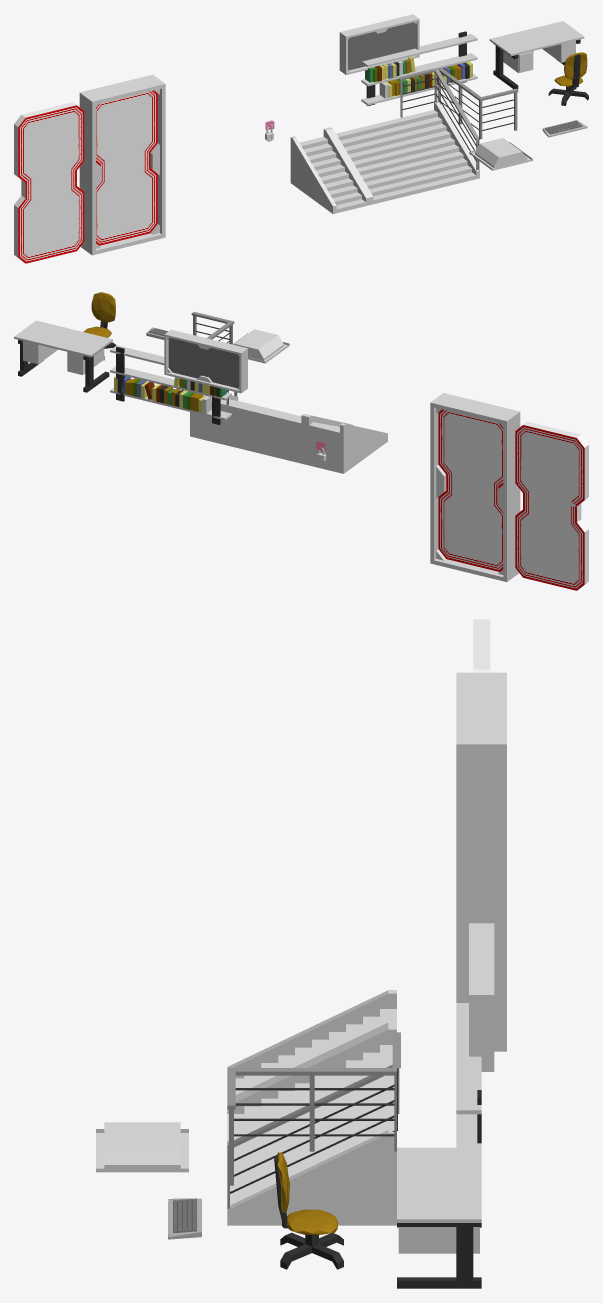
File: Keyboard.fbx
The picture shows the model from 3 angles, top to bottom: view 1: azimuth 30°, elevation 25°; view 2: azimuth 150°, elevation 25°; view 3: azimuth 270°, elevation 25°; orthographic projection. The views are drawn at different scales.
Parts seen in each view (by area): view 1: Window_Breakable, WindowFrame, Stairs_S, Bookshelf, Stairs_R, Window, Desk, Stairs_M, Stairs_L, Window_Piece_11, LightBulb, Window_Piece_6 (+17 smaller); view 2: Window_Breakable, WindowFrame, Bookshelf, Window, Desk, Stairs_S, Stairs_M, Stairs_L, Window_Piece_11, Window_Piece_6, Stairs_R, LightBulb (+14 smaller); view 3: WindowFrame, Stairs_R, Desk, Stairs_L, Stairs_S, Stairs_M, LightBulb, Window, Office Chair, Bookshelf, Railing_D, Railing_S (+2 smaller).
Boxes of the visible parts, box(x1,y1,x2,y2) form: Window_Breakable: box(96, 90, 157, 245); WindowFrame: box(79, 74, 165, 255); Stairs_S: box(290, 128, 369, 213); Bookshelf: box(361, 31, 477, 105); Stairs_R: box(402, 101, 479, 186); Window: box(339, 14, 419, 74); Desk: box(489, 21, 584, 89); Stairs_M: box(364, 118, 443, 196); Stairs_L: box(327, 127, 406, 204); Window_Piece_11: box(14, 195, 50, 257); LightBulb: box(469, 138, 532, 170); Window_Piece_6: box(21, 180, 76, 216); Window_Breakable: box(438, 409, 503, 571); WindowFrame: box(430, 393, 520, 581); Bookshelf: box(110, 345, 231, 424); Window: box(164, 329, 247, 393); Desk: box(14, 320, 112, 392); Stairs_S: box(305, 414, 387, 473); Stairs_M: box(228, 402, 301, 454); Stairs_L: box(267, 412, 306, 464); Window_Piece_11: box(550, 519, 588, 584); Window_Piece_6: box(523, 503, 581, 541); Stairs_R: box(190, 395, 271, 445); LightBulb: box(233, 329, 289, 363); WindowFrame: box(456, 672, 506, 1051); Stairs_R: box(227, 1113, 396, 1225); Desk: box(397, 1147, 481, 1288); Stairs_L: box(227, 1026, 396, 1146); Stairs_S: box(227, 990, 396, 1098); Stairs_M: box(234, 1077, 394, 1182); LightBulb: box(96, 1122, 188, 1172); Window: box(469, 923, 494, 1071); Office Chair: box(274, 1152, 343, 1269); Bookshelf: box(456, 1003, 481, 1147); Railing_D: box(227, 1064, 396, 1209); Railing_S: box(312, 1068, 396, 1151).
Bounding box in the file's own units: 1490 × 400 × 485.
